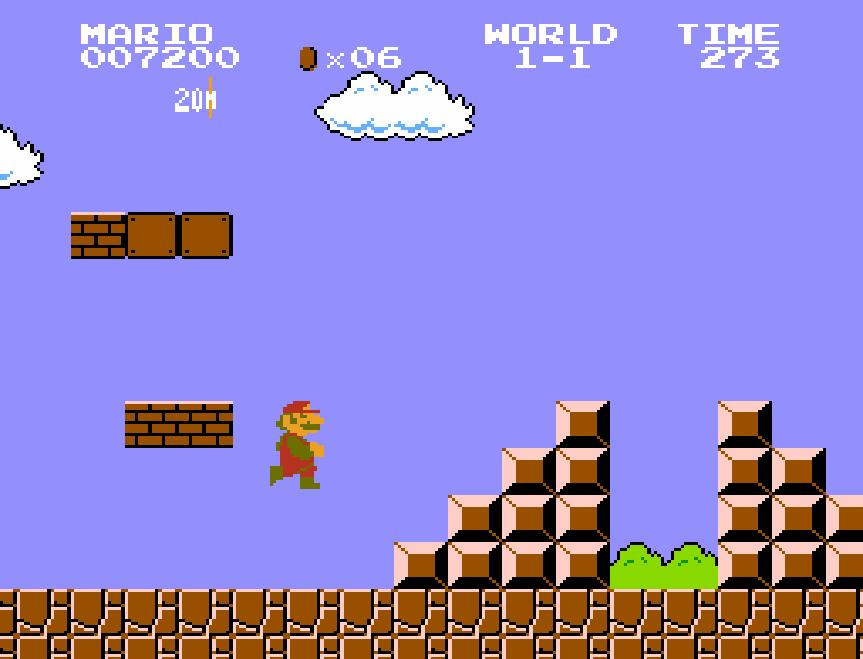big_mario: (267, 393, 325, 491)
